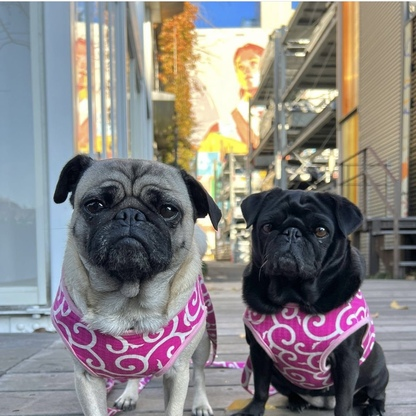Pug: (45, 148, 227, 416), (229, 179, 392, 416)
